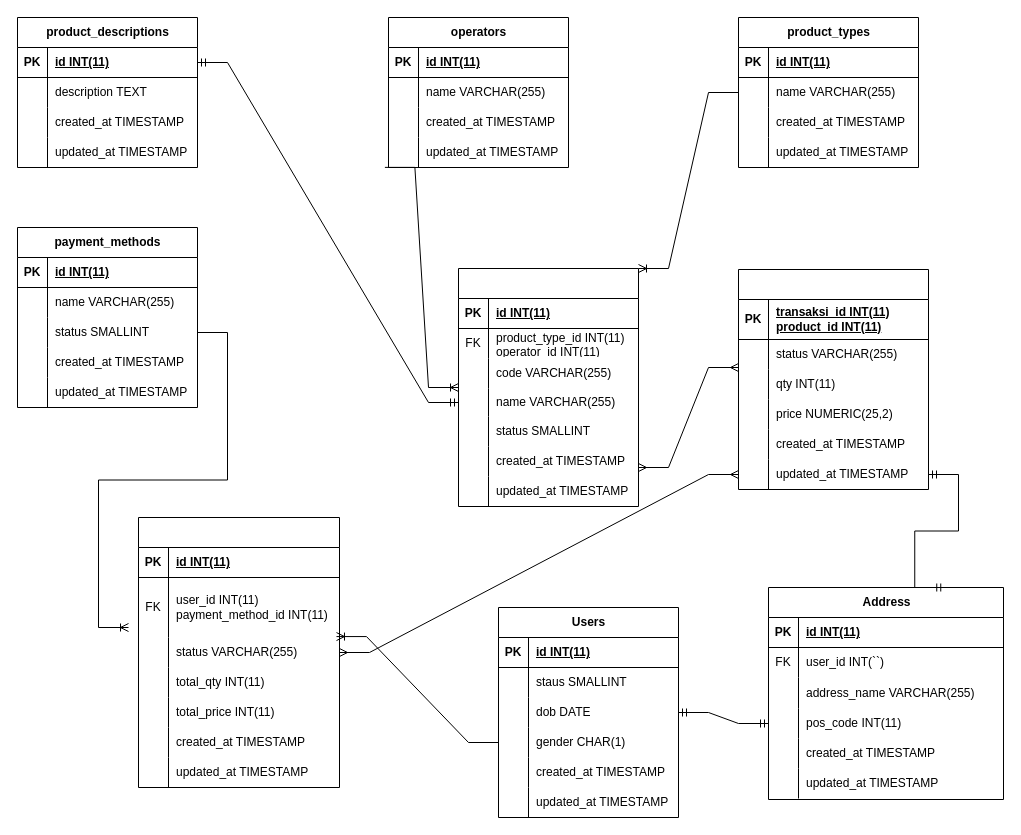
The diagram is 1021 pixels wide and 835 high, and some of its shapes have lost their labels. The shapes that lost their labels are listed below. From the top down, each one's box as (x1, y1, x2, y2) in pixels, then its label:
(458, 268, 638, 506): products
(738, 268, 928, 490): Detail_transaksi
(138, 516, 340, 788): Transaksi
